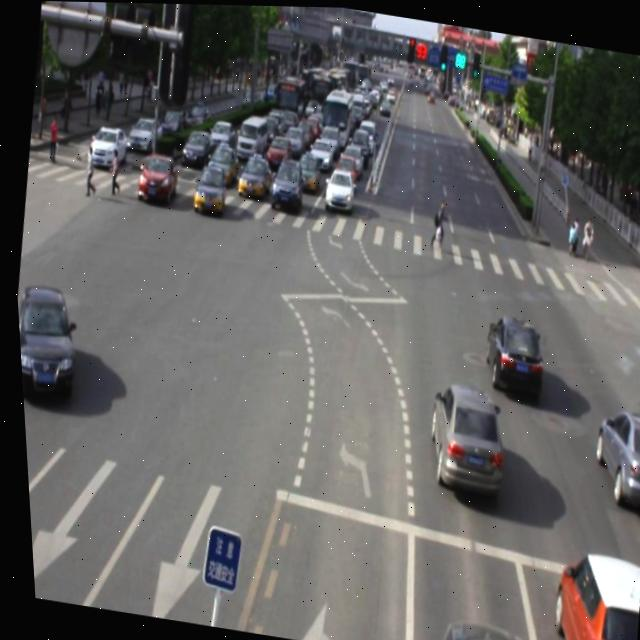car: (414, 376, 508, 492), (534, 541, 640, 640), (13, 282, 81, 403), (474, 308, 546, 398), (578, 400, 640, 502), (423, 610, 540, 640), (187, 160, 226, 215)
